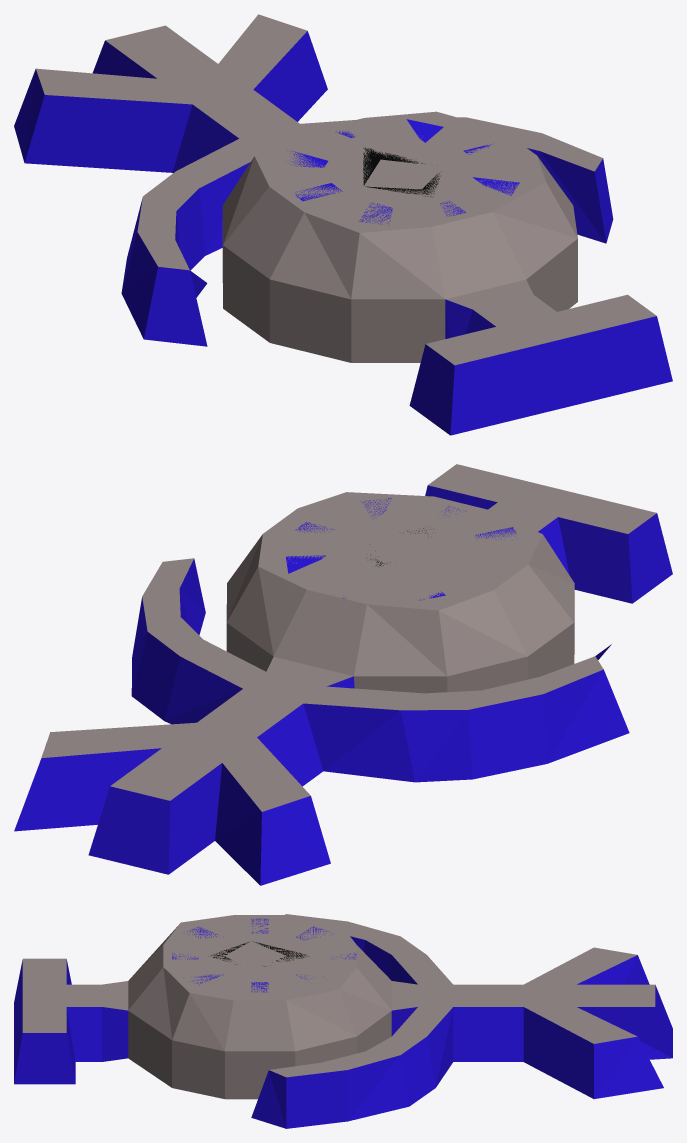
The model's file is inv_body_talisman.obj.
3 renders of one model, top to bottom at view 1: azimuth 30°, elevation 25°; view 2: azimuth 150°, elevation 25°; view 3: azimuth 270°, elevation 25°, orthographic. The views are drawn at different scales.
Bounding box in the file's own units: 0.3672 × 0.0859 × 0.5859.
